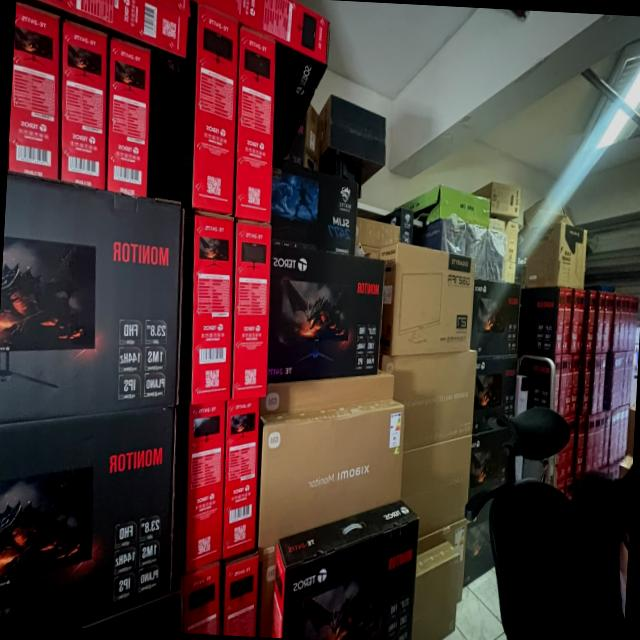caja-monitor: (0, 173, 180, 421), (0, 409, 175, 627), (258, 398, 405, 560), (187, 0, 331, 162), (271, 501, 419, 640), (268, 243, 385, 380), (379, 242, 476, 357), (380, 352, 477, 450), (192, 7, 237, 213), (10, 3, 61, 180), (37, 0, 188, 57), (190, 211, 234, 406), (59, 23, 109, 190), (272, 161, 359, 252), (237, 27, 276, 219), (106, 38, 152, 198), (401, 435, 472, 538), (231, 222, 271, 398), (185, 400, 223, 570), (259, 372, 394, 419), (223, 397, 261, 559), (411, 543, 460, 640), (416, 518, 466, 601), (469, 280, 521, 356), (472, 357, 517, 435), (518, 287, 566, 355), (183, 561, 222, 634), (224, 557, 257, 636), (355, 217, 400, 249), (377, 209, 413, 245), (577, 352, 592, 414), (582, 291, 596, 353), (569, 289, 581, 354), (562, 289, 573, 354), (575, 416, 586, 476), (585, 416, 596, 475), (576, 291, 586, 353), (595, 293, 605, 354), (591, 354, 601, 414), (571, 353, 580, 415), (565, 355, 574, 416), (559, 355, 568, 416)
